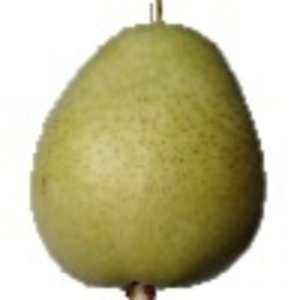pera: (16, 1, 267, 300)
